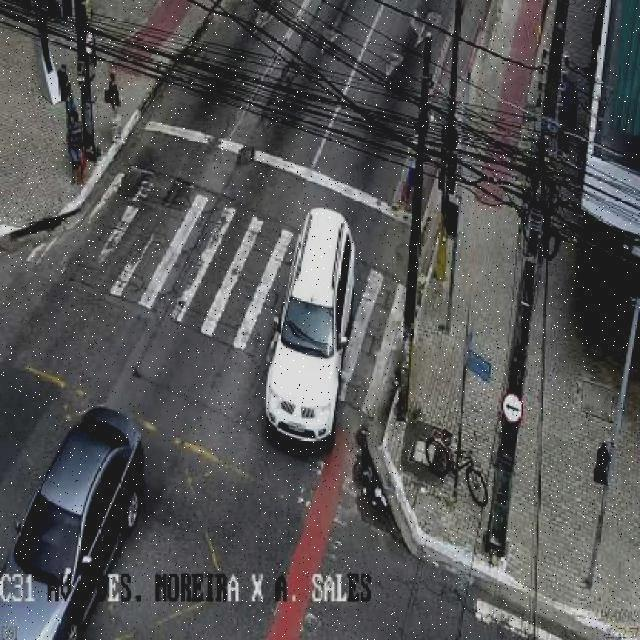Car: (0, 405, 149, 640), (262, 208, 359, 450)
Cycle: (423, 427, 493, 509)
